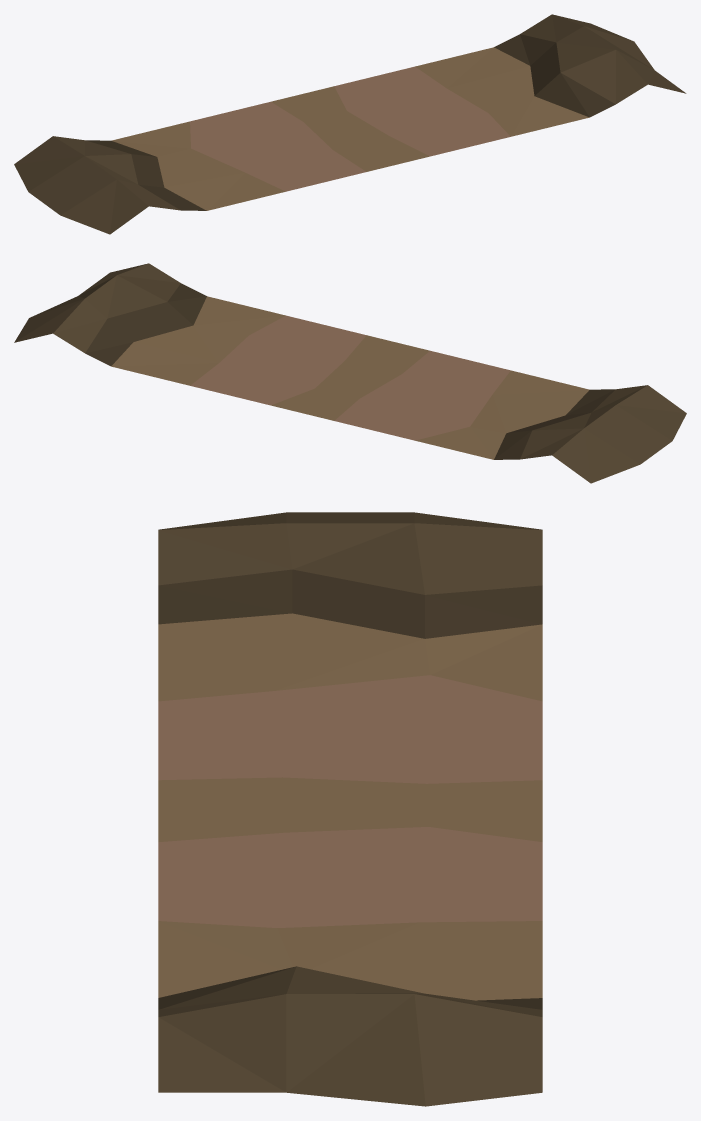
File: SM_Env_Road_Straight_02.fbx
3 renders of one model, top to bottom at view 1: azimuth 30°, elevation 25°; view 2: azimuth 150°, elevation 25°; view 3: azimuth 270°, elevation 25°, orthographic. The views are drawn at different scales.
Visible parts, largest first — view 1: SM_Env_Road_Straight_02; view 2: SM_Env_Road_Straight_02; view 3: SM_Env_Road_Straight_02.
Boxes of the visible parts, <box> form: SM_Env_Road_Straight_02: <box>14,14,686,234</box>; SM_Env_Road_Straight_02: <box>14,263,686,483</box>; SM_Env_Road_Straight_02: <box>158,512,542,1106</box>.
Size of the model in its own units: 0.0366 by 0.00174 by 0.01.
1 material, 1 textured.
